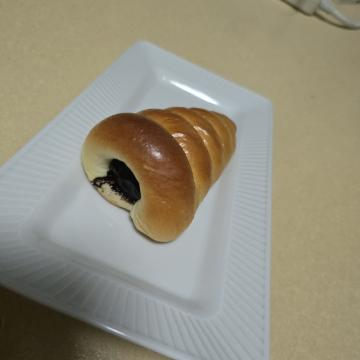cream horn: (82, 112, 261, 293)
